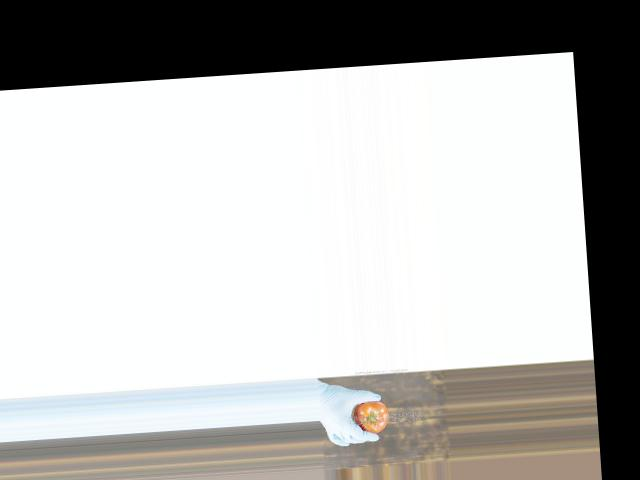tomato: (352, 399, 390, 434)
